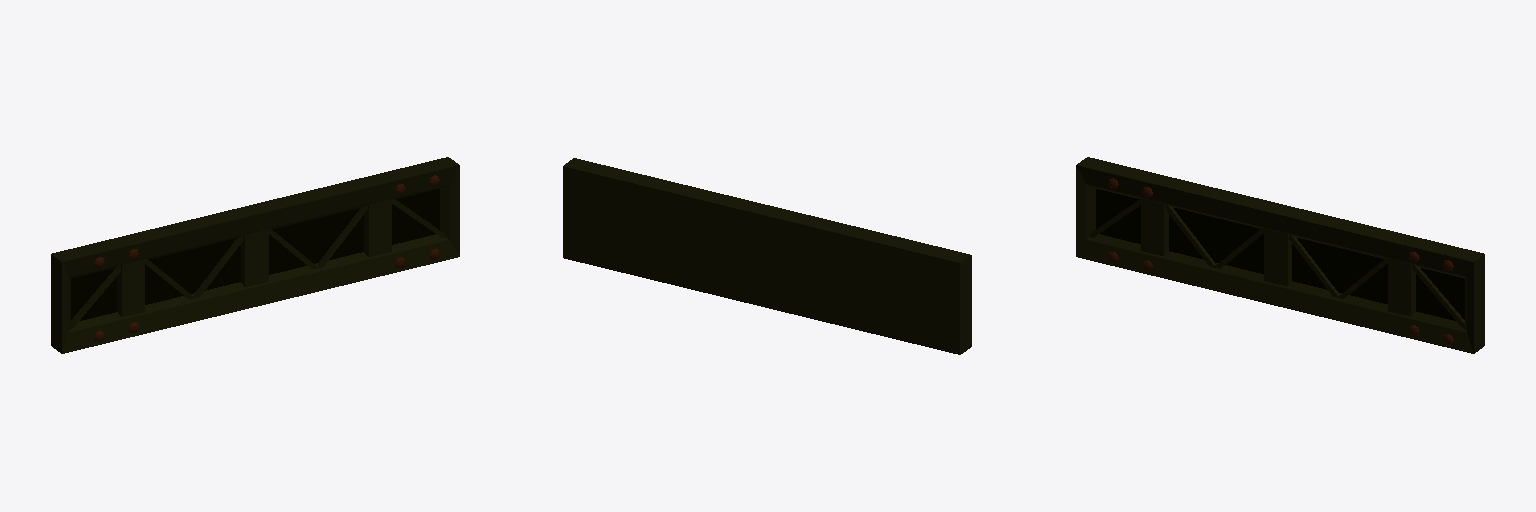
The model's file is metal_platform.obj.
The picture shows the model from 3 angles: view 1: azimuth 30°, elevation 25°; view 2: azimuth 150°, elevation 25°; view 3: azimuth 330°, elevation 25°; orthographic projection.
Visible parts, largest first — view 1: metal_plate_big metal_test, metal_test plates_metal pCube19, metal_test plates_metal pCube20, metal_test pCube18 plates_metal; view 2: metal_plate_big metal_test; view 3: metal_plate_big metal_test, metal_test plates_metal pCube19, metal_test pCube18 plates_metal, metal_test plates_metal pCube20, metal_test metal_rails_ffs pCube25.
Part boxes in pixels (x1,y1,x2,y2): metal_plate_big metal_test: (51, 157, 459, 353); metal_test plates_metal pCube19: (241, 229, 268, 286); metal_test plates_metal pCube20: (364, 199, 391, 256); metal_test pCube18 plates_metal: (117, 259, 144, 316); metal_plate_big metal_test: (563, 158, 971, 354); metal_plate_big metal_test: (1076, 157, 1484, 353); metal_test plates_metal pCube19: (1264, 228, 1291, 286); metal_test pCube18 plates_metal: (1141, 198, 1168, 255); metal_test plates_metal pCube20: (1388, 258, 1415, 316); metal_test metal_rails_ffs pCube25: (1412, 265, 1465, 328).
Size of the model in its own units: 6.45 by 1.43 by 0.3601.